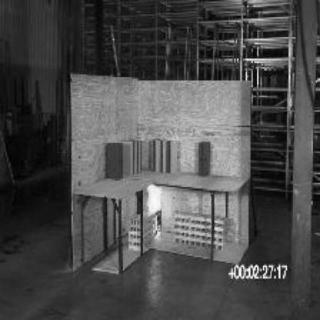Fire: (144, 178, 163, 240)
